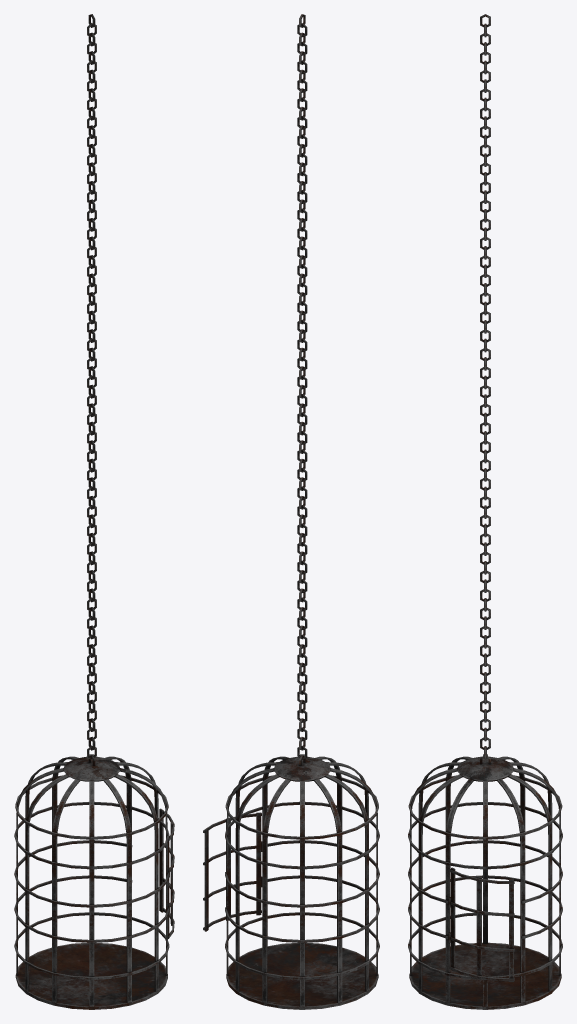
File: SM_Cage.fbx
3 renders of one model, left to right at view 1: azimuth 30°, elevation 25°; view 2: azimuth 150°, elevation 25°; view 3: azimuth 270°, elevation 25°, orthographic.
Visible parts, largest first — view 1: SM_Cage_LOD0; view 2: SM_Cage_LOD0; view 3: SM_Cage_LOD0.
Part boxes in pixels (box(x1,y1,x2,y2)): SM_Cage_LOD0: box(14, 14, 174, 1009); SM_Cage_LOD0: box(203, 14, 379, 1009); SM_Cage_LOD0: box(408, 14, 562, 1009).
Bounding box in the file's own units: 104 × 91.57 × 631.
1 material, 1 textured.
